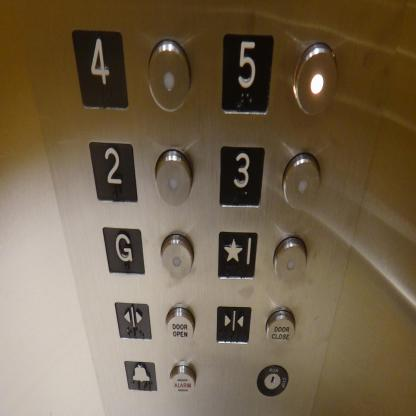2: (87, 138, 138, 204)
3: (219, 144, 266, 209)
4: (69, 26, 129, 110)
5: (222, 29, 275, 119)
G: (101, 225, 146, 277)
alarm: (123, 358, 158, 393)
close: (216, 304, 251, 344)
empty: (146, 37, 192, 113), (292, 43, 338, 118), (153, 146, 194, 207), (281, 151, 322, 212), (272, 232, 308, 283), (159, 230, 194, 281)
keyhole: (256, 358, 289, 402)
open: (114, 300, 153, 342)
s1: (218, 228, 258, 282)
text_alarm bell: (167, 362, 198, 400)
text_door close: (265, 307, 295, 351)
text_door open: (164, 305, 197, 348)
